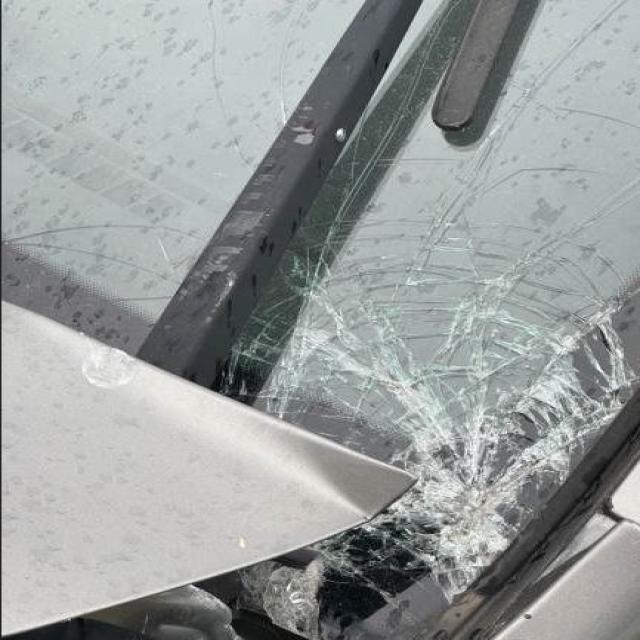electronic: (168, 211, 638, 640)
